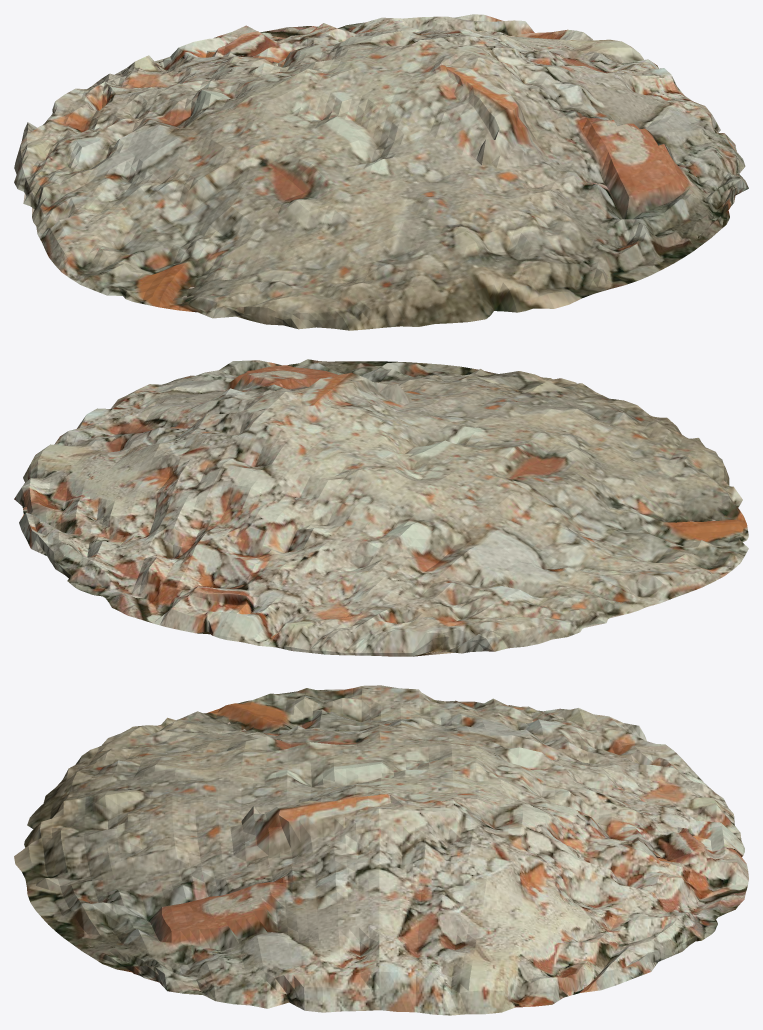
File: tasDeGravats.obj
The picture shows the model from 3 angles, top to bottom: view 1: azimuth 30°, elevation 25°; view 2: azimuth 150°, elevation 25°; view 3: azimuth 270°, elevation 25°; orthographic projection. The views are drawn at different scales.
Visible parts, largest first — view 1: Plane; view 2: Plane; view 3: Plane.
Part boxes in pixels (<box>): Plane: <box>14,14,748,330</box>; Plane: <box>14,359,748,656</box>; Plane: <box>14,685,748,1015</box>.
Size of the model in its own units: 95.99 by 13.72 by 91.48.
1 material, 1 textured.
